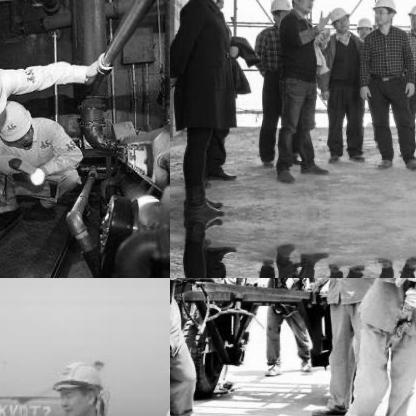Helmet: (47, 355, 106, 415), (0, 99, 39, 150), (371, 0, 398, 27), (328, 3, 350, 34), (268, 0, 293, 27), (354, 14, 374, 40), (286, 0, 316, 13), (406, 0, 415, 30)
